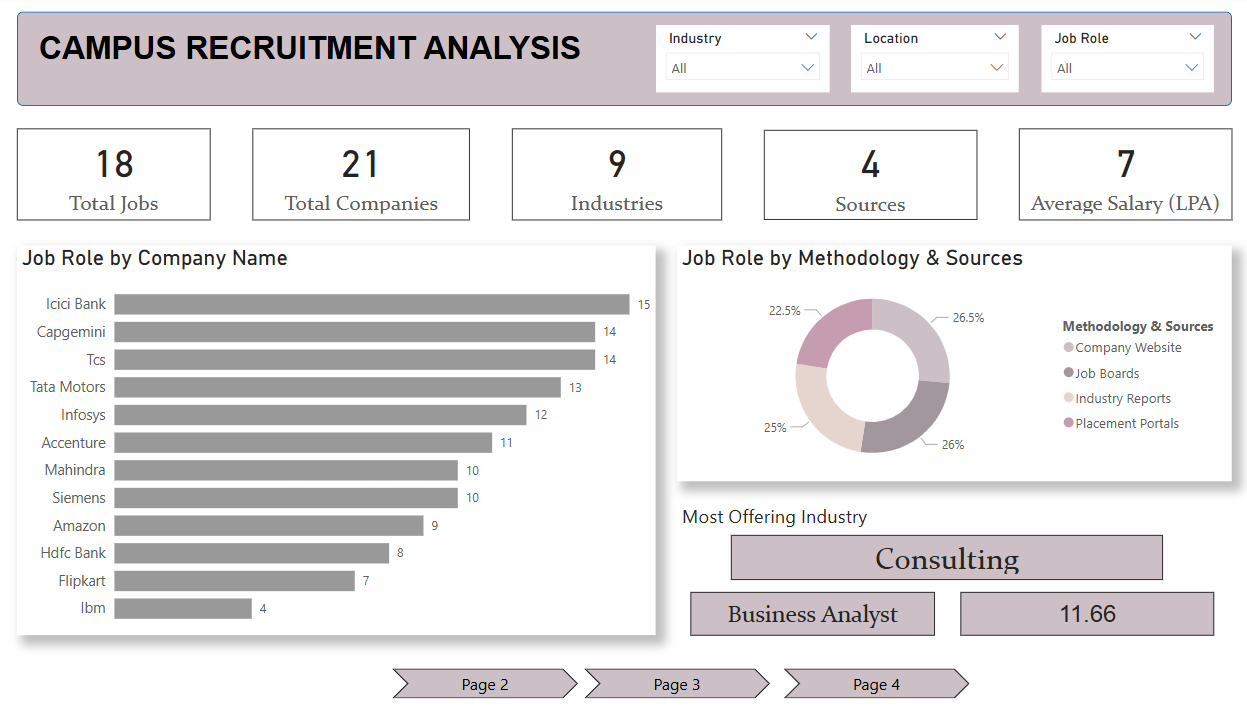

What the dashboard file says about the page in this screenshot:
{"tool":"powerbi","page":{"name":"Overview","canvas":[1280,720],"ordinal":0},"visuals":[{"type":"barChart","title":"Job Role by Company Name","fields":{"Category":["extended_campus_recruitment.Company Name"],"Y":["CountNonNull(extended_campus_recruitment.Job Role)"]},"box":[34,253.2,644.4,393.1],"z":0},{"type":"card","fields":{"Values":["Measure Table.Total Jobs"]},"box":[33.3,134.8,195.3,92.4],"z":1000},{"type":"card","fields":{"Values":["Count(campus_recruitment.Company Name)"]},"box":[271,134.8,219.6,92.4],"z":2000},{"type":"shape","box":[33.3,16.7,1226.5,95.4],"z":3000},{"type":"textbox","box":[34,30.2,591.5,68],"z":4000},{"type":"slicer","fields":{"Values":["campus_recruitment.Job Role"]},"box":[1067.5,30.3,174.1,68.1],"z":5000},{"type":"slicer","fields":{"Values":["campus_recruitment.Location"]},"box":[875.2,30.3,169.6,68.1],"z":6000},{"type":"slicer","fields":{"Values":["campus_recruitment.Industry"]},"box":[678.4,30.3,175.6,68.1],"z":7000},{"type":"card","fields":{"Values":["Min(campus_recruitment.Job Role)"]},"box":[713.2,602.7,246.8,43.9],"z":8000},{"type":"card","fields":{"Values":["Max(campus_recruitment.Salary)"]},"box":[985.7,602.7,255.9,43.9],"z":9000},{"type":"textbox","box":[699.6,507.3,213.5,37.9],"z":10000},{"type":"donutChart","title":"Job Role by Methodology & Sources","fields":{"Y":["CountNonNull(campus_recruitment.Job Role)"],"Category":["campus_recruitment.Methodology & Sources"]},"box":[699.6,252.9,560.3,237.7],"z":11000},{"type":"card","fields":{"Values":["Measure Table.Avg Salary"]},"box":[1045,134.2,215.4,92.6],"z":12000},{"type":"card","fields":{"Values":["Count(campus_recruitment.Industry)"]},"box":[533,134.8,212,92.4],"z":13000},{"type":"card","fields":{"Values":["Count(campus_recruitment.Methodology & Sources)"]},"box":[787.4,136.3,215,90.9],"z":14000},{"type":"card","fields":{"Values":["Min(campus_recruitment.Industry)"]},"box":[754.1,545.1,436.1,45.4],"z":15000},{"type":"shape","box":[605.7,679.9,187.8,30.3],"z":16000},{"type":"shape","box":[411.9,679.9,187.8,30.3],"z":17000},{"type":"shape","box":[807.1,679.9,187.8,30.3],"z":18000}]}

Visuals, with their boxes in screenshot pixels (x1, y1, x2, y2), scaled from the page's 1280x720 canvas onto the 1247x708 screenshot:
"Job Role by Company Name" barChart: 33,249,661,636
card - Measure Table.Total Jobs: 32,133,223,223
card - Count(campus_recruitment.Company Name): 264,133,478,223
shape: 32,16,1227,110
textbox: 33,30,609,97
slicer - campus_recruitment.Job Role: 1040,30,1210,97
slicer - campus_recruitment.Location: 853,30,1018,97
slicer - campus_recruitment.Industry: 661,30,832,97
card - Min(campus_recruitment.Job Role): 695,593,935,636
card - Max(campus_recruitment.Salary): 960,593,1210,636
textbox: 682,499,890,536
"Job Role by Methodology & Sources" donutChart: 682,249,1227,482
card - Measure Table.Avg Salary: 1018,132,1228,223
card - Count(campus_recruitment.Industry): 519,133,726,223
card - Count(campus_recruitment.Methodology & Sources): 767,134,977,223
card - Min(campus_recruitment.Industry): 735,536,1160,581
shape: 590,669,773,698
shape: 401,669,584,698
shape: 786,669,969,698
